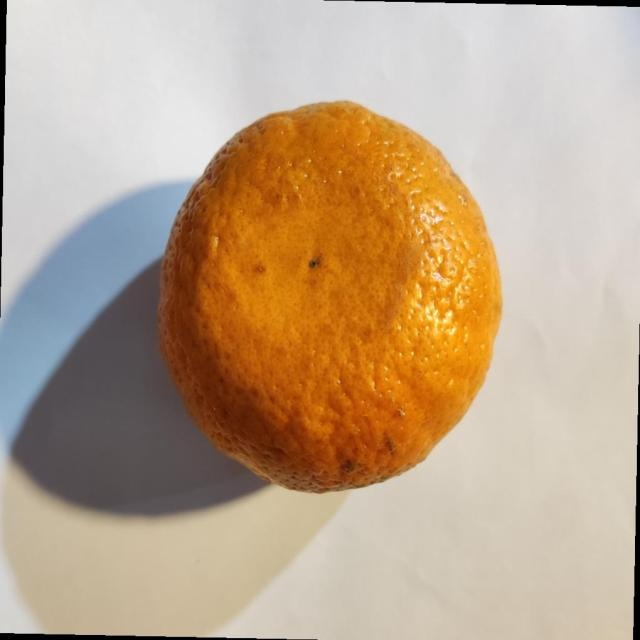agrume: (156, 98, 504, 494)
